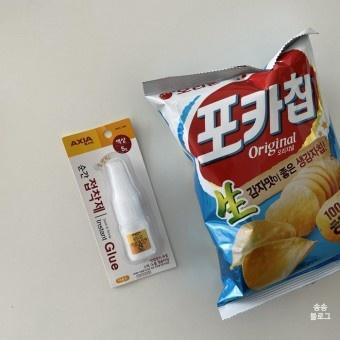snack: (142, 26, 340, 320)
